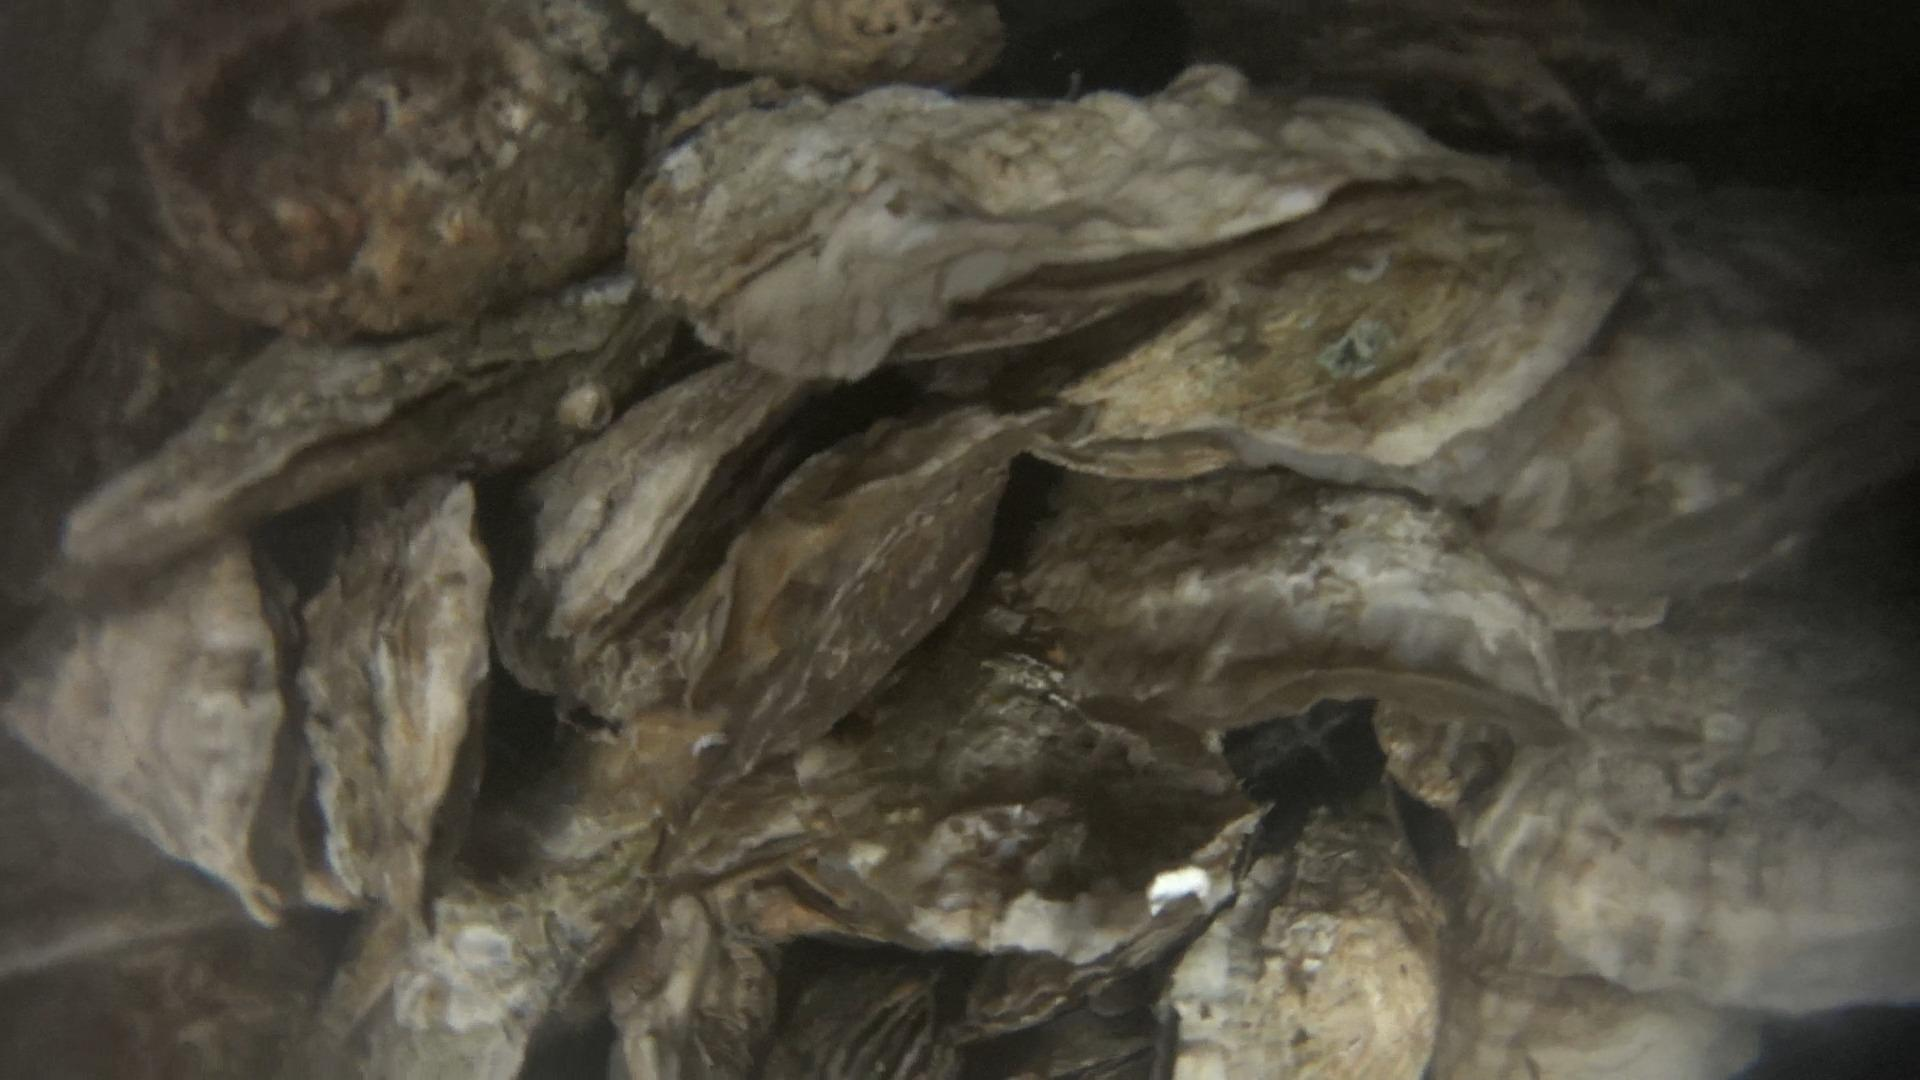3: (1404, 160, 1920, 641), (55, 278, 634, 593), (935, 839, 1242, 1048), (754, 967, 938, 1080), (864, 996, 949, 1080)
Oyster-Closed: (1033, 473, 1586, 752), (715, 413, 1011, 764), (498, 361, 785, 709), (309, 473, 487, 910)
Oyster-Open: (622, 65, 1429, 381), (891, 198, 1639, 491), (673, 644, 1255, 955), (1484, 601, 1920, 1011), (7, 535, 280, 926), (1424, 865, 1847, 1080), (1156, 790, 1445, 1080), (596, 0, 1010, 98)
